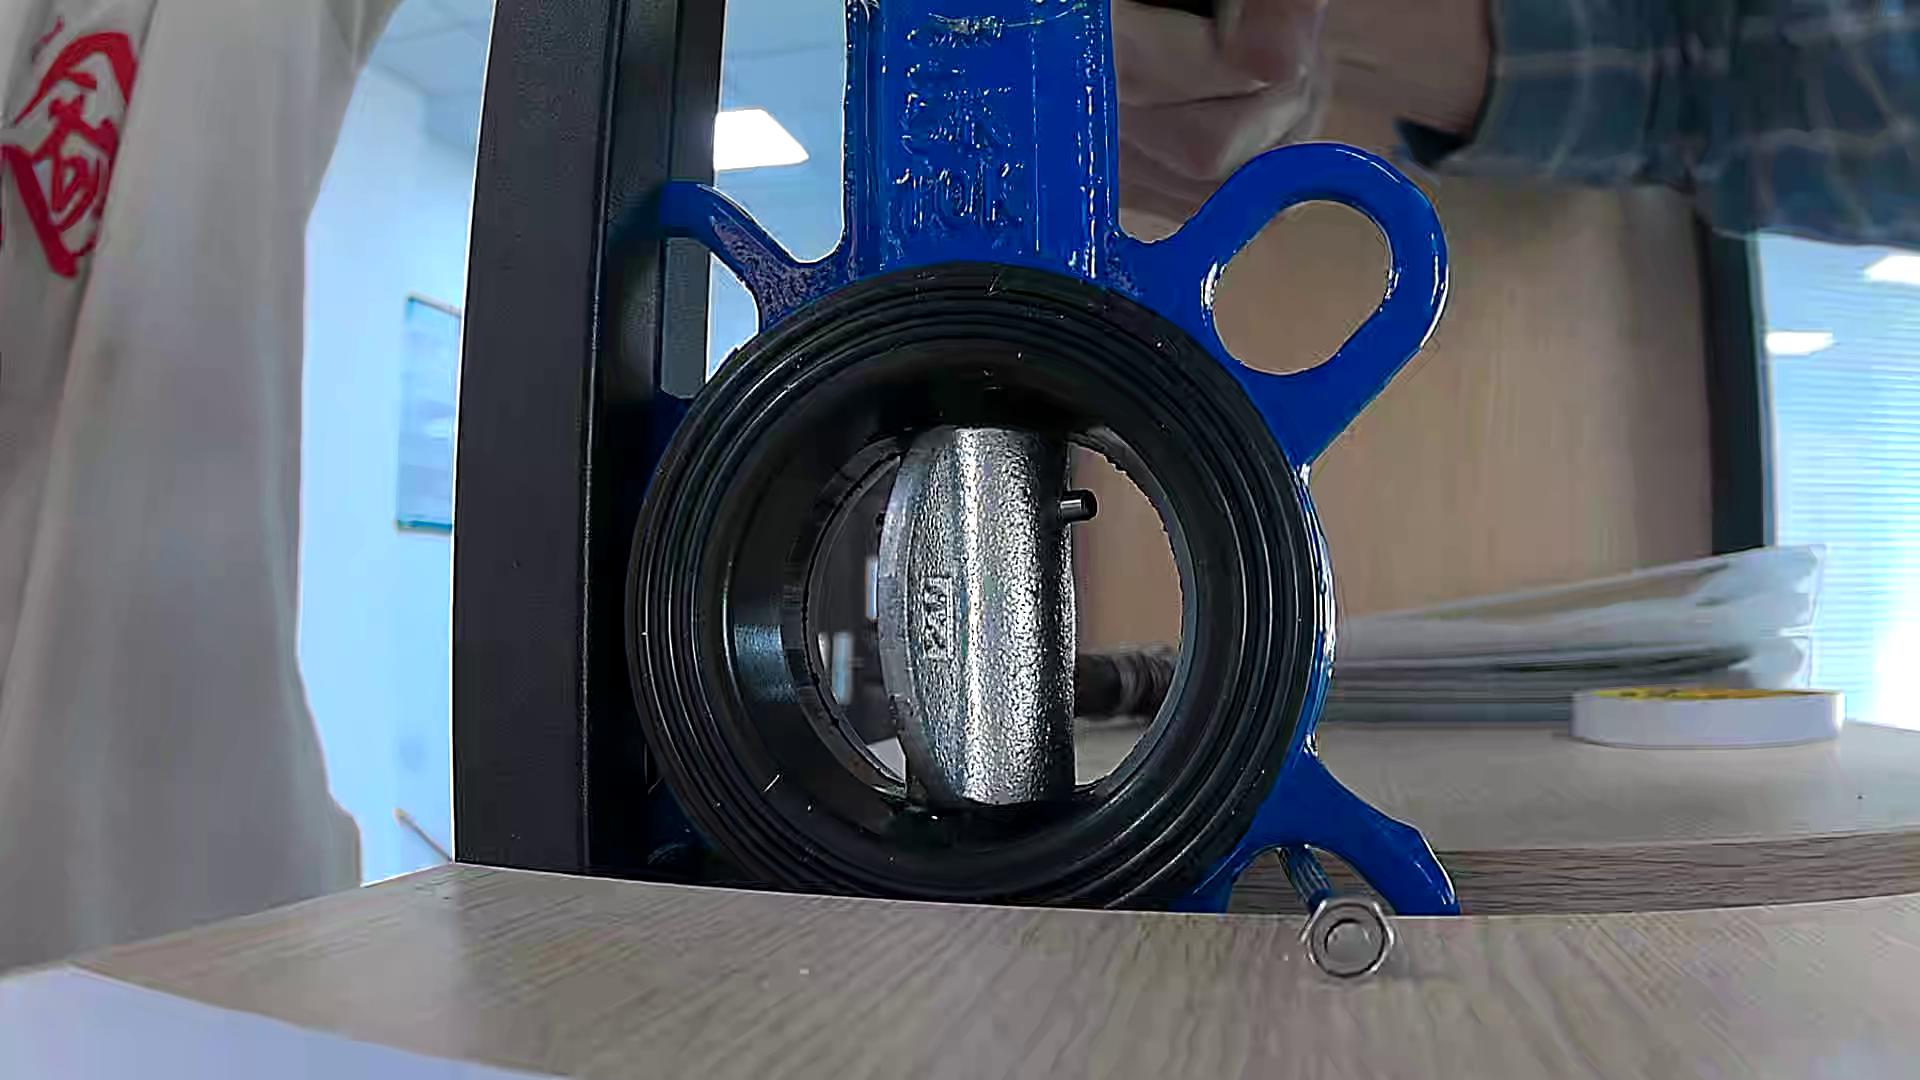valve: (878, 428, 1078, 806)
